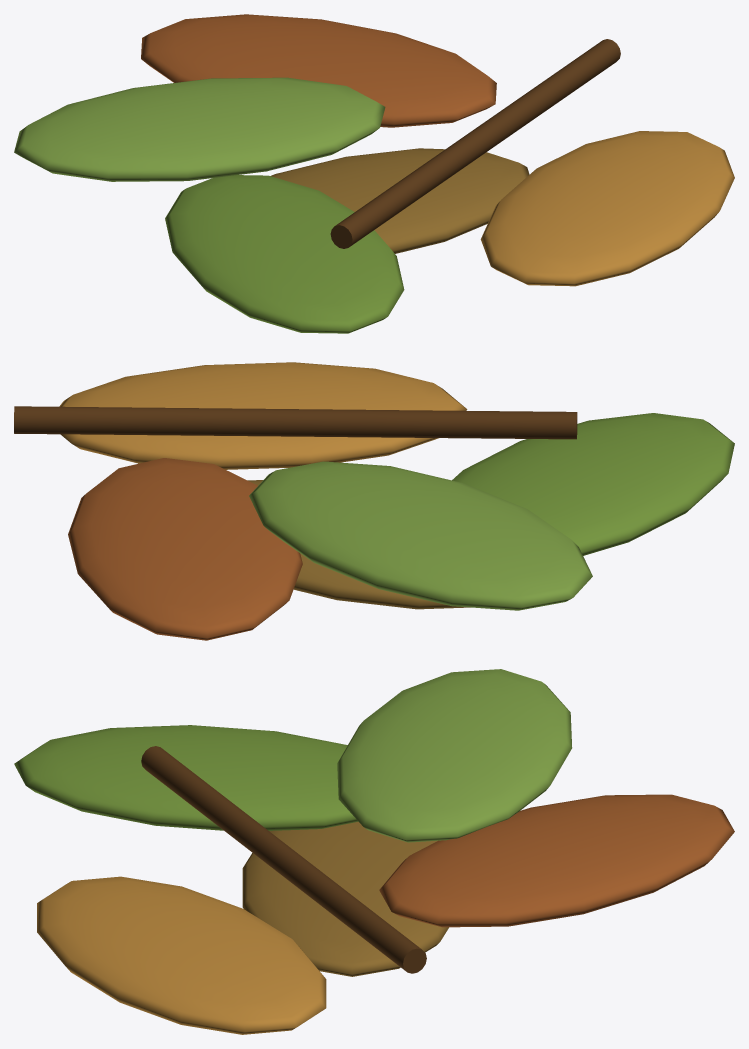
Rendered from waste_leaves.fbx.
3 renders of one model, top to bottom at view 1: azimuth 30°, elevation 25°; view 2: azimuth 150°, elevation 25°; view 3: azimuth 270°, elevation 25°, orthographic. The views are drawn at different scales.
Visible parts, largest first — view 1: M__waste_leaves; view 2: M__waste_leaves; view 3: M__waste_leaves.
Part boxes in pixels (bbox=[...]): M__waste_leaves: bbox=[14, 14, 734, 333]; M__waste_leaves: bbox=[14, 362, 734, 640]; M__waste_leaves: bbox=[14, 669, 734, 1034].
Bounding box in the file's own units: 0.211 × 0.0384 × 0.2113.
